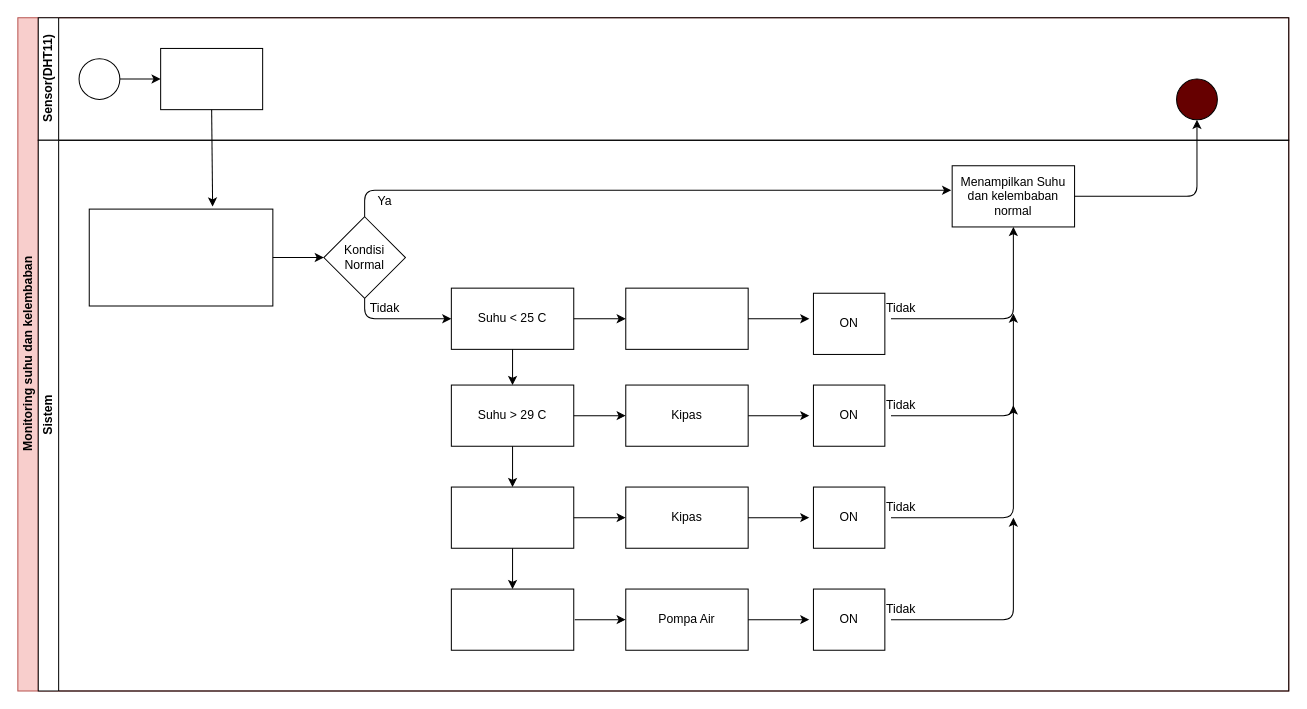
The diagram is 1307 pixels wide and 709 high, and some of its shapes have lost their labels. The shapes that lost their labels are listed below. From the top down, each one's centre as x and y in pixels, then its label:
At point (99, 78): "Mulai".
At point (211, 78): "Sensor mendeteksi suhu dan kelembaban".
At point (1196, 99): "Selesai".
At point (180, 257): "Suhu >29 C & <25 C dan kelembaban > 60% & < 90%".
At point (686, 318): "Lampu pemanas".
At point (512, 517): "Kelembaban > 90%".
At point (512, 619): "Kelembaban < 60%".
